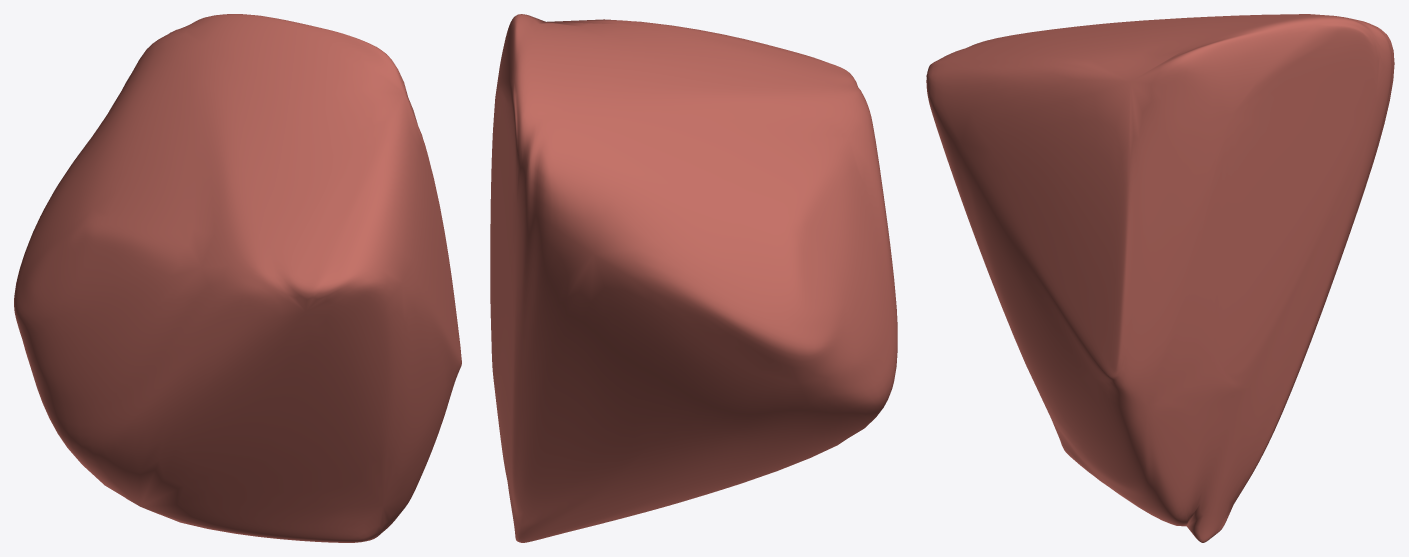
Rendered from rock_scan.obj.
3 renders of one model, left to right at view 1: azimuth 30°, elevation 25°; view 2: azimuth 150°, elevation 25°; view 3: azimuth 270°, elevation 25°, orthographic. The views are drawn at different scales.
Visible parts, largest first — view 1: Rock_Scan; view 2: Rock_Scan; view 3: Rock_Scan.
Boxes of the visible parts, <box> form: Rock_Scan: <box>14,14,461,542</box>; Rock_Scan: <box>490,14,897,542</box>; Rock_Scan: <box>926,14,1394,542</box>.
Bounding box in the file's own units: 0.3132 × 0.3935 × 0.3347.
